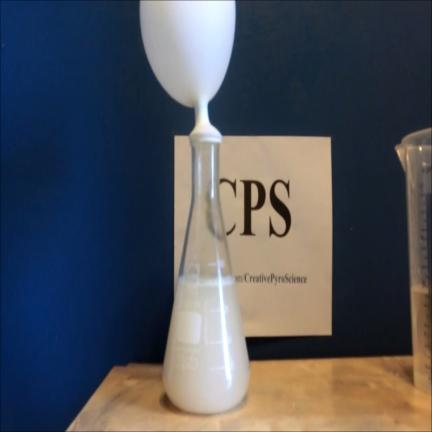container: (164, 134, 248, 414)
fluid: (164, 279, 248, 414)
fluid-surface: (180, 276, 234, 284)
